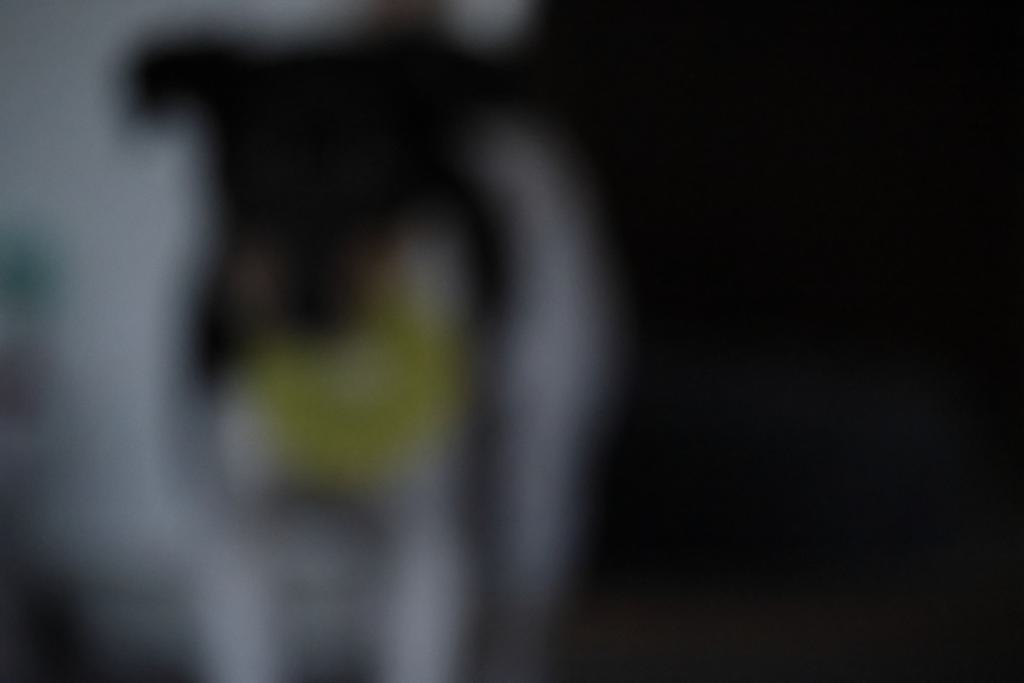Dog: (75, 0, 646, 683)
